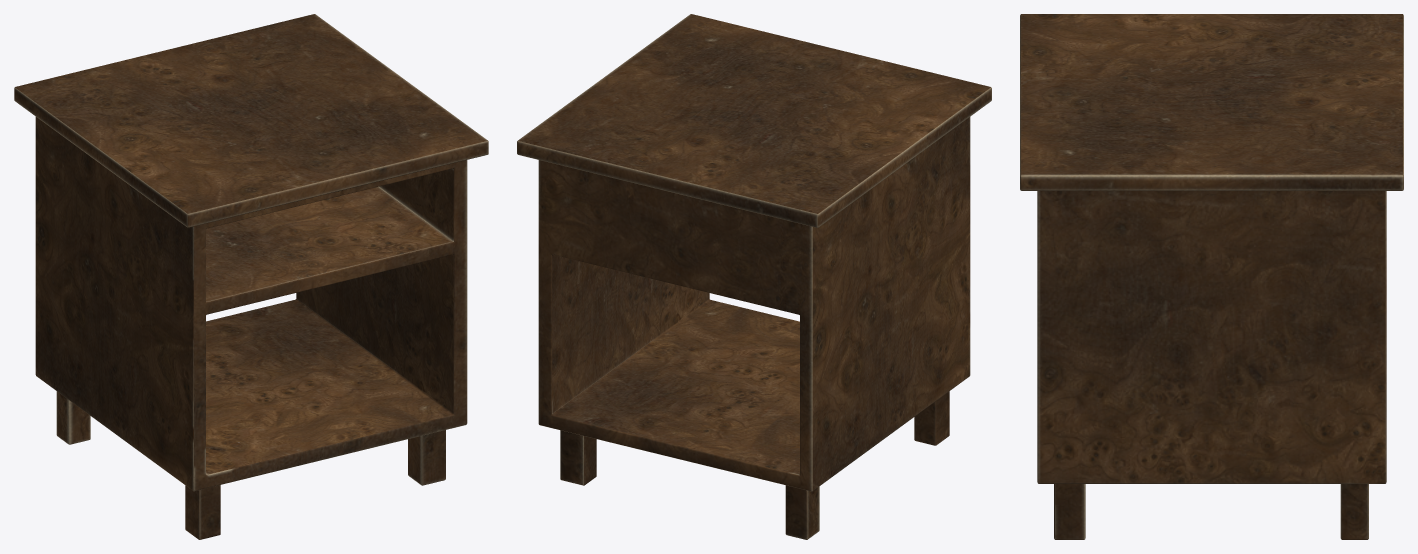
File: nightstand.glb
3 renders of one model, left to right at view 1: azimuth 30°, elevation 25°; view 2: azimuth 150°, elevation 25°; view 3: azimuth 270°, elevation 25°, orthographic. The views are drawn at different scales.
Visible parts, largest first — view 1: Nightstand_0; view 2: Nightstand_0; view 3: Nightstand_0.
Part boxes in pixels (<box>): Nightstand_0: <box>14,14,488,539</box>; Nightstand_0: <box>517,14,991,539</box>; Nightstand_0: <box>1020,14,1403,539</box>.
Bounding box in the file's own units: 0.4682 × 0.5108 × 0.4682.
Materials: 1 (1 with a texture image).
